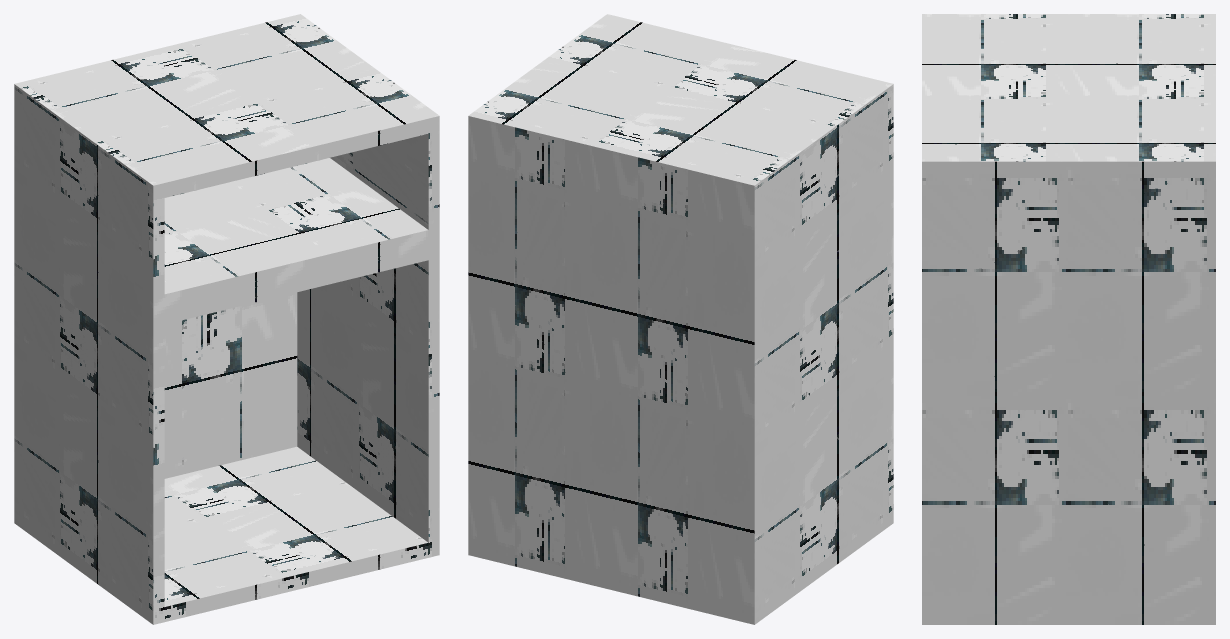
Rendered from ShelfBody.FBX.
3 renders of one model, left to right at view 1: azimuth 30°, elevation 25°; view 2: azimuth 150°, elevation 25°; view 3: azimuth 270°, elevation 25°, orthographic. The views are drawn at different scales.
Parts seen in each view (by area): view 1: ShelfBody; view 2: ShelfBody; view 3: ShelfBody.
Boxes of the visible parts, x1,y1,x2,y2 form: ShelfBody: (14, 14, 439, 624); ShelfBody: (468, 14, 893, 624); ShelfBody: (922, 14, 1215, 624).
Bounding box in the file's own units: 1.23 × 1.03 × 1.8.
Materials: 1 (1 with a texture image).
